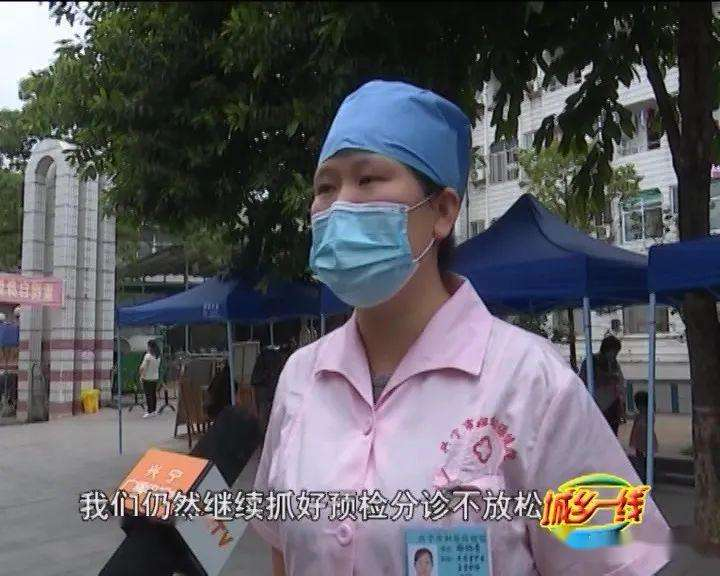mask: (311, 159, 419, 302)
